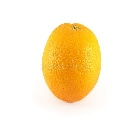orange: (40, 23, 107, 104)
